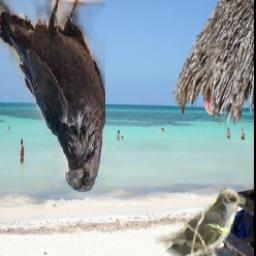Crow: (0, 0, 105, 192)
Cuckoo: (155, 187, 246, 256)
